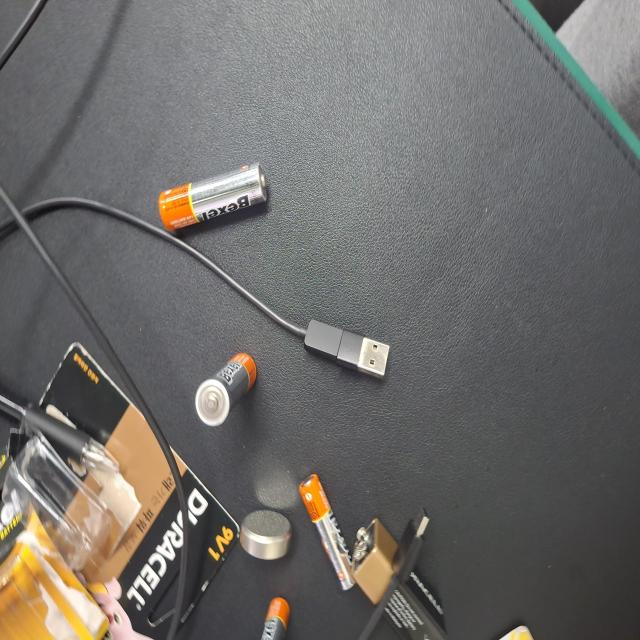9V: (388, 253, 480, 384)
AA: (120, 496, 173, 640), (265, 509, 319, 593)
AAA: (357, 380, 441, 450), (448, 466, 480, 508)
COIN: (381, 464, 422, 534)
